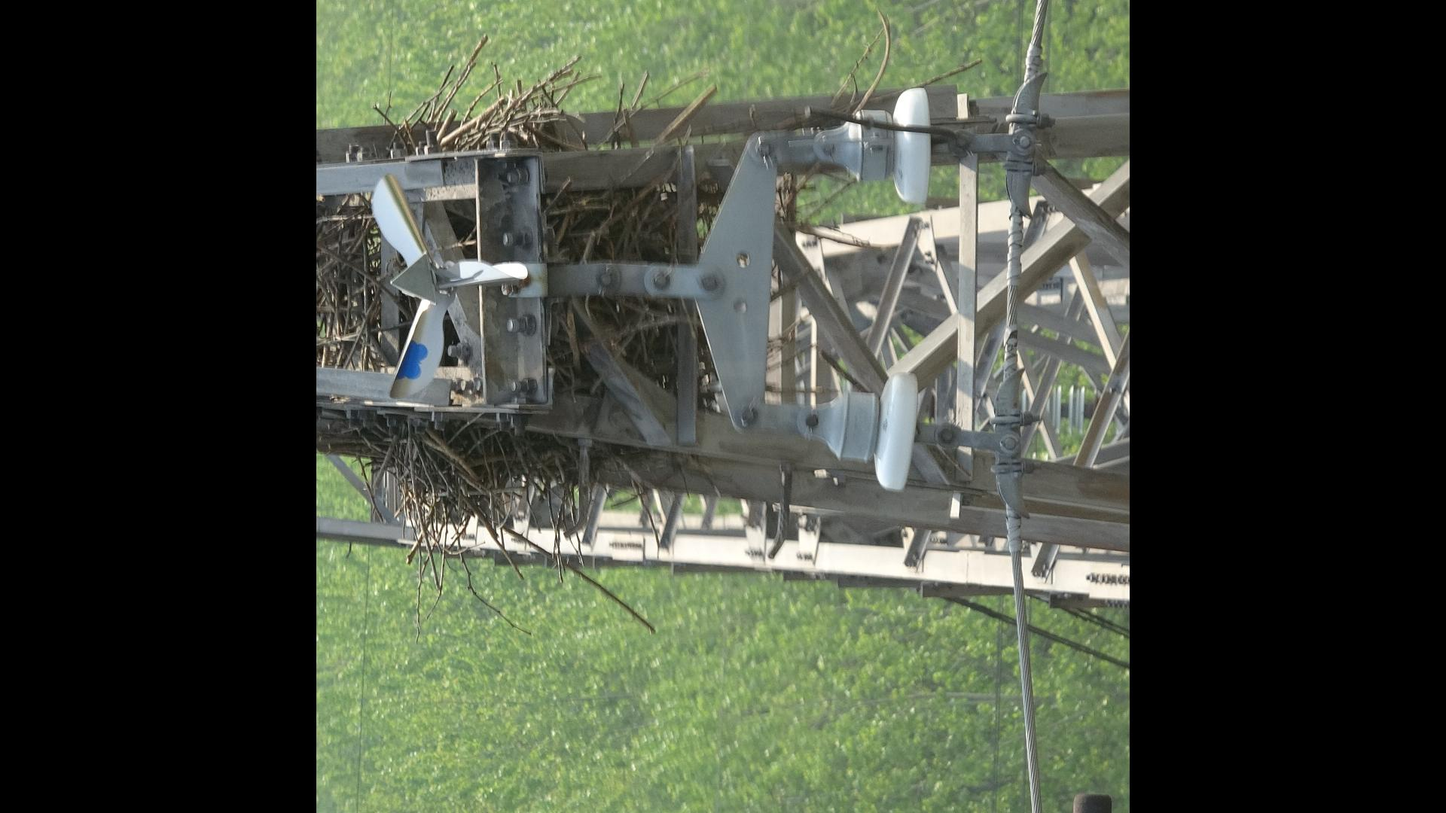nest: (316, 78, 671, 574)
